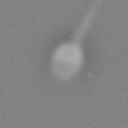normal: (74, 1, 103, 41)
